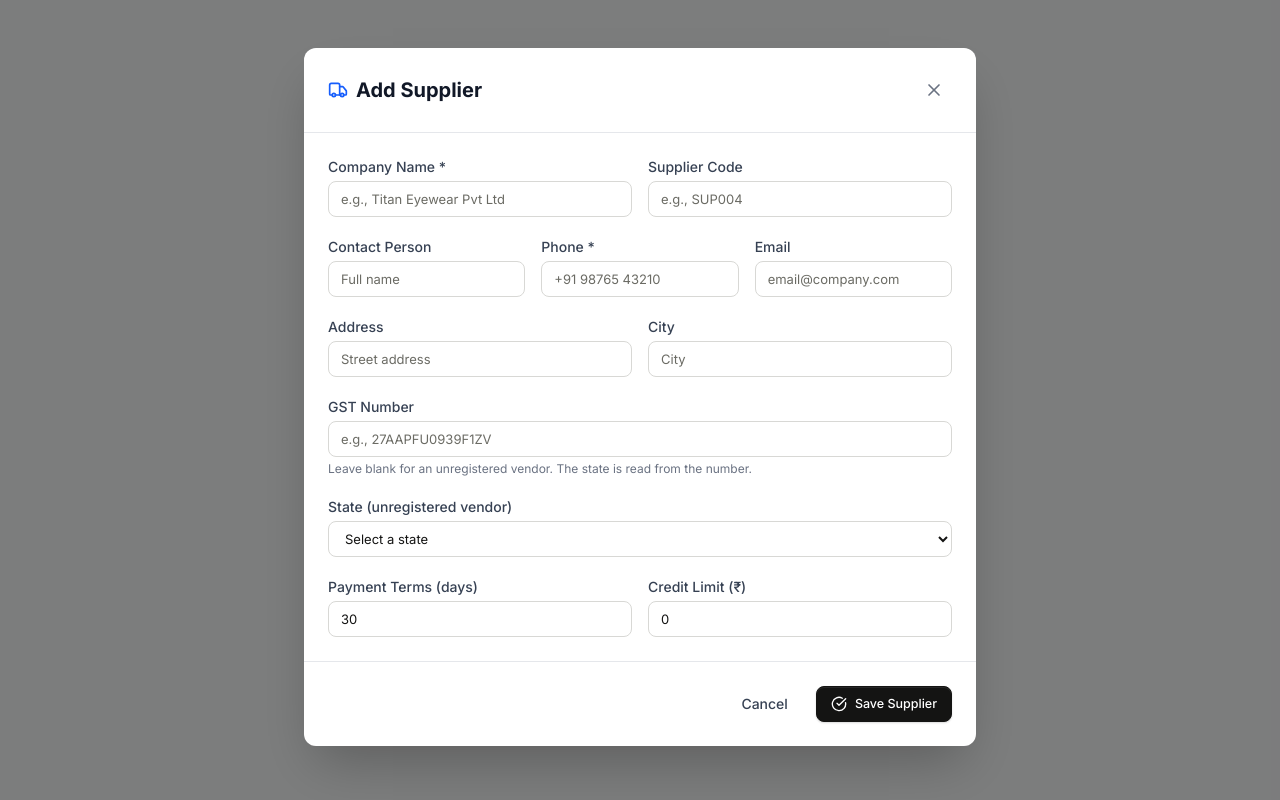
Test: SupplierFormModal state-from-GSTIN › changes the state when the GSTIN changes
Type "27AAPFU0939F1ZV" into the field labelled "GST Number". click: (640, 439)
box: x1=328 y1=421 x2=952 y2=457
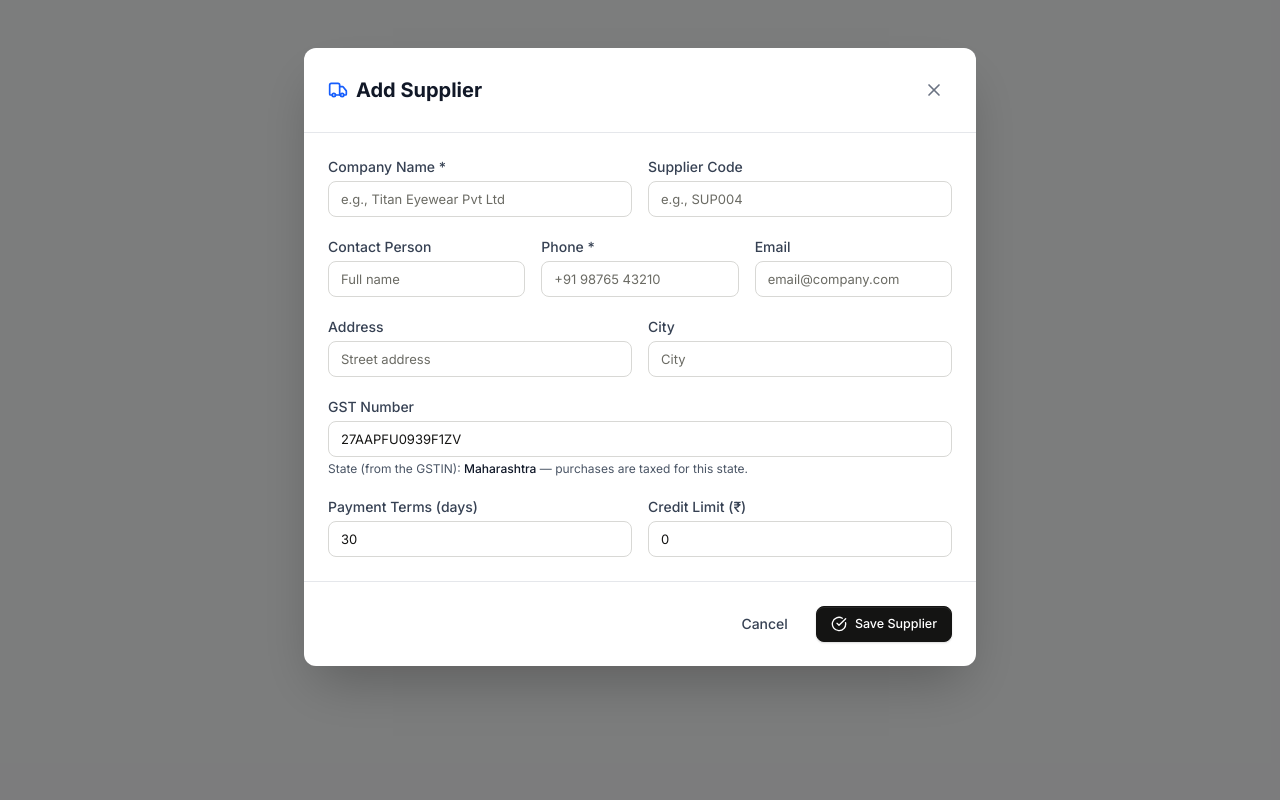
Expected: the text "Maharashtra" is shown, x1=464 y1=461 x2=536 y2=476
Replace the text in the field labelled "GST Number" with "20AABCU9603R1Z1". click: (640, 439)
box: x1=328 y1=421 x2=952 y2=457
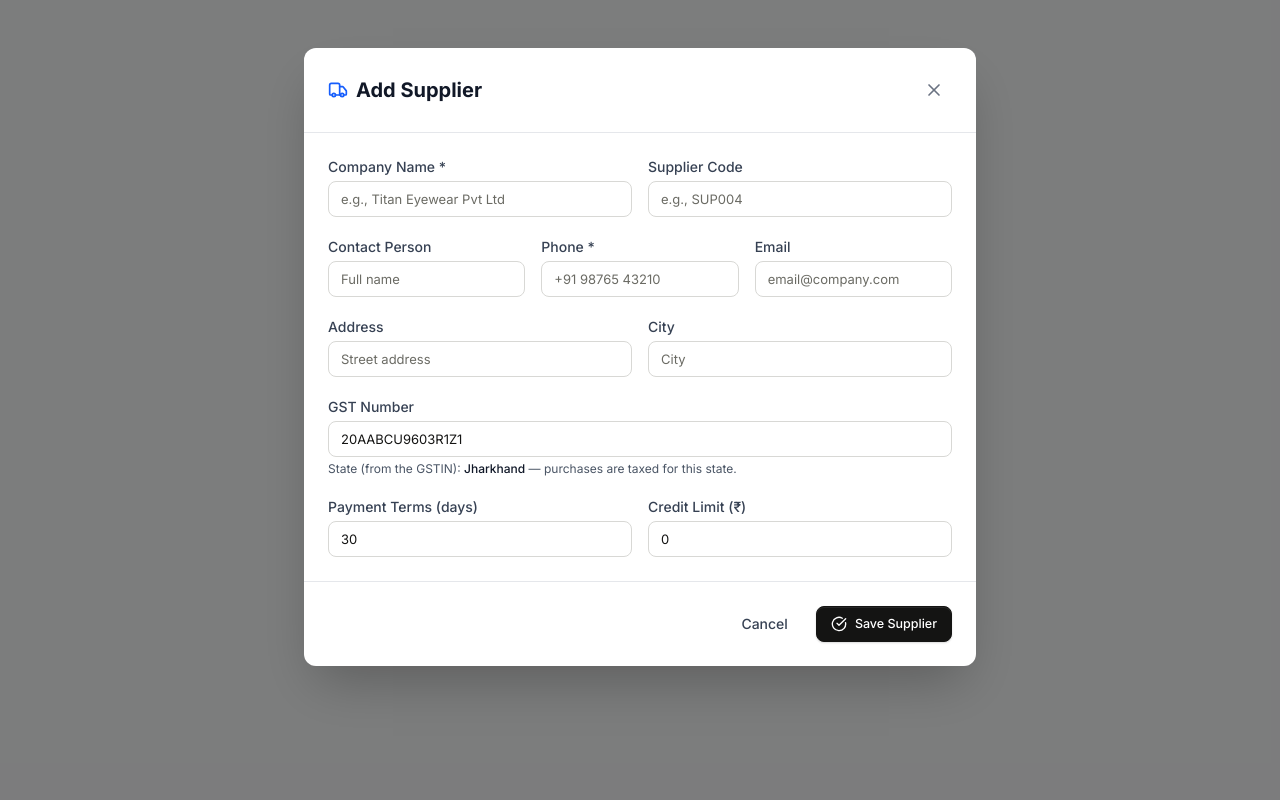
Expected: the text "Jharkhand" is shown, x1=464 y1=461 x2=525 y2=476
